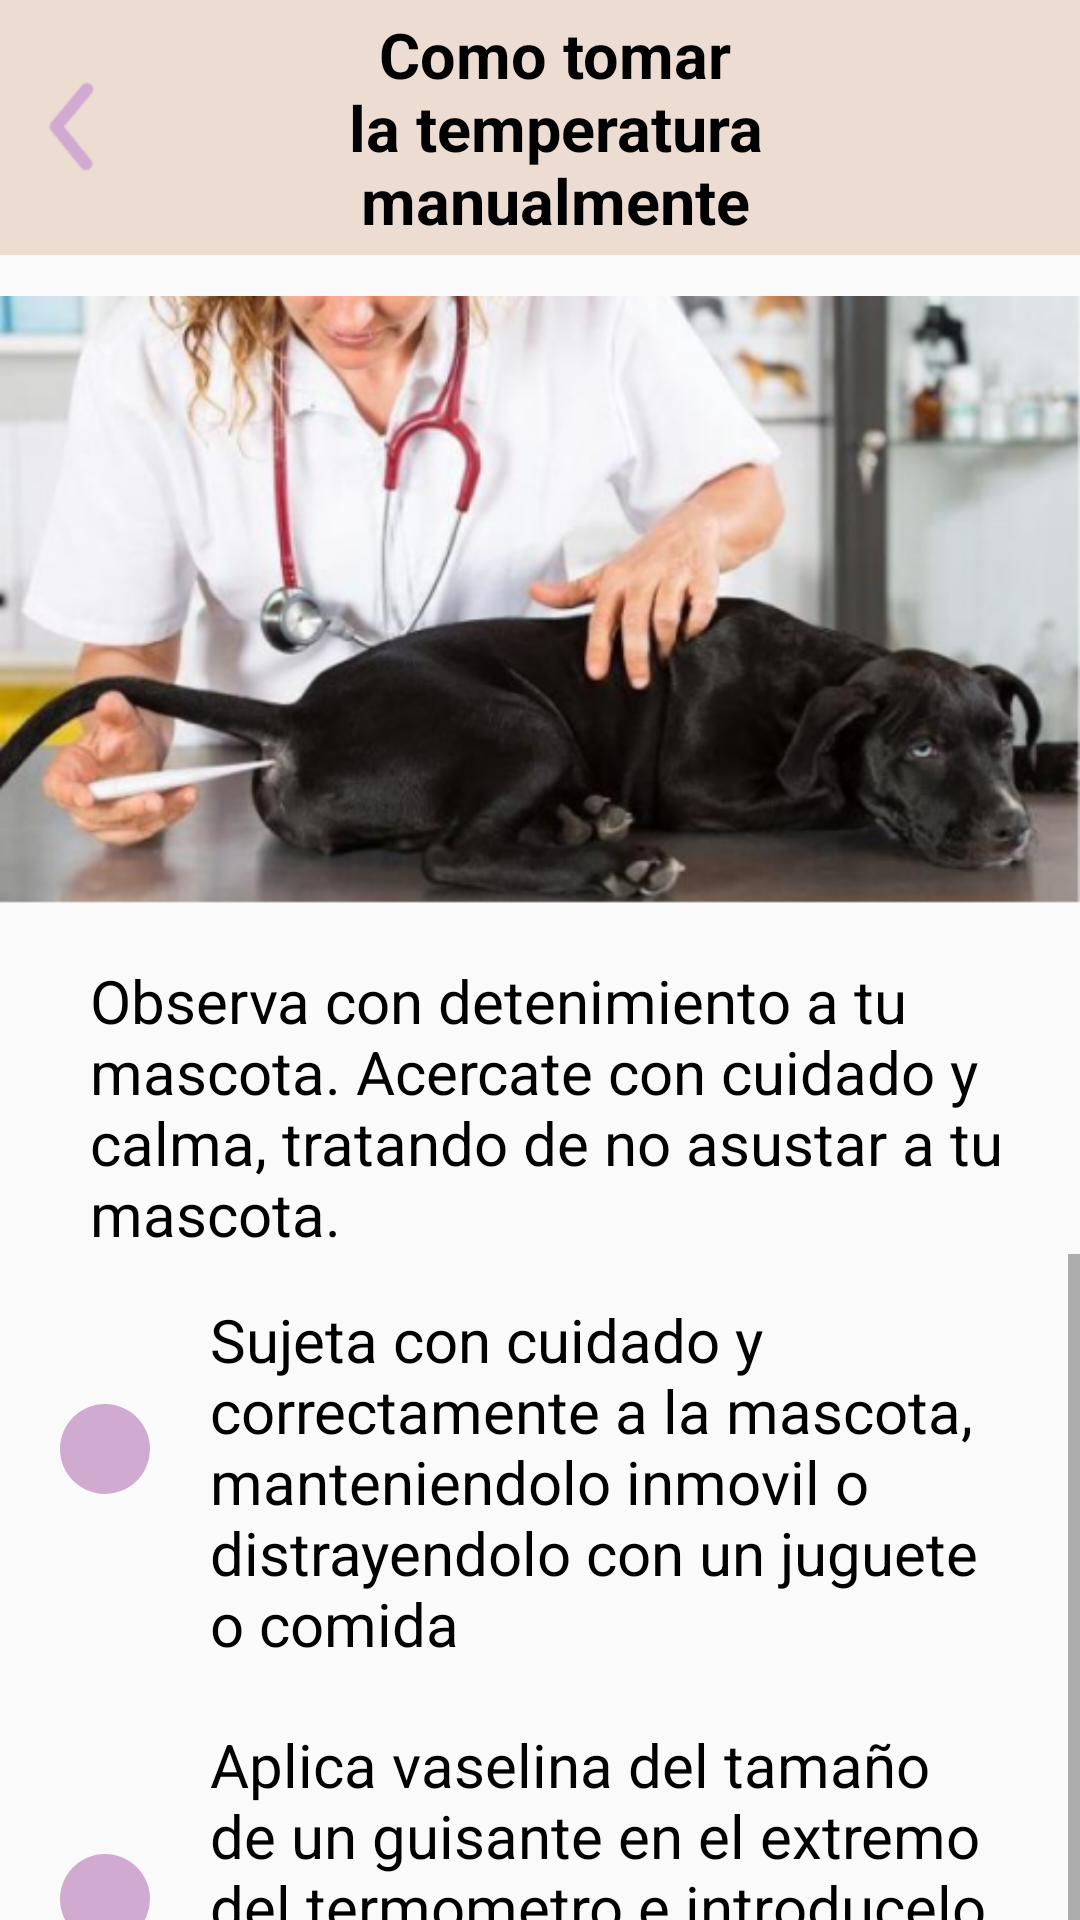

Icon bounding boxes for this 1080px×1920px phone screenshot, format BBox(x1, y1, x2, y2):
back: BBox(50, 83, 93, 170)
